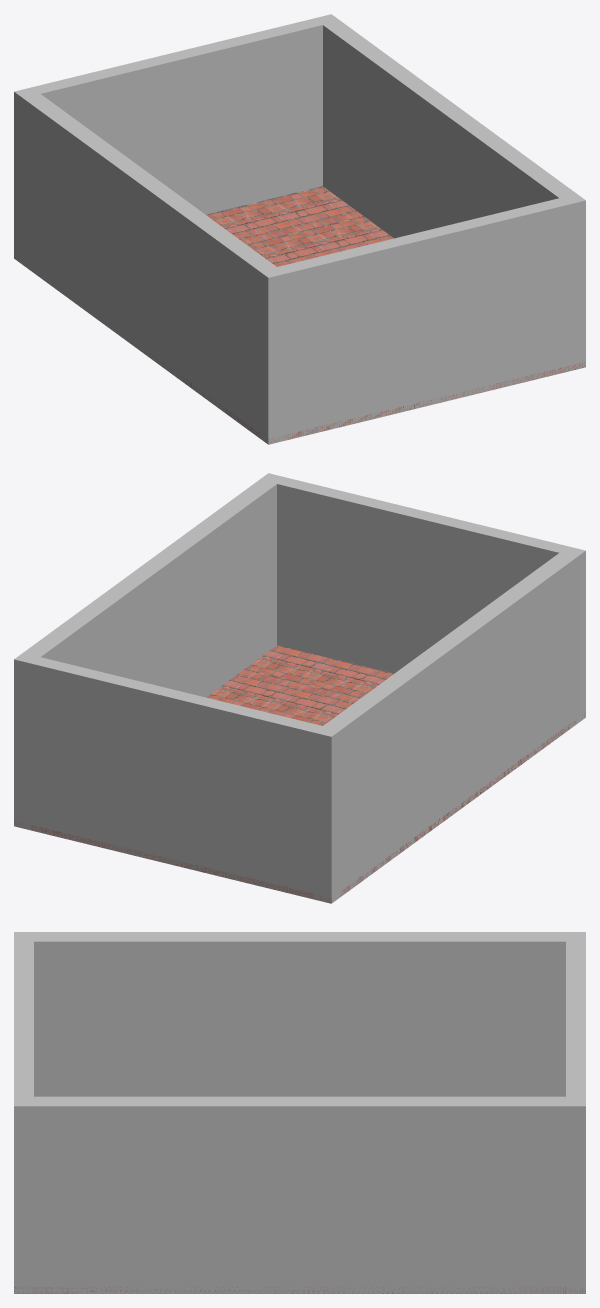
File: room.dae
The picture shows the model from 3 angles, top to bottom: view 1: azimuth 30°, elevation 25°; view 2: azimuth 150°, elevation 25°; view 3: azimuth 270°, elevation 25°; orthographic projection. The views are drawn at different scales.
Visible parts, largest first — view 1: Plane.001, Plane; view 2: Plane.001, Plane; view 3: Plane.001, Plane.
Part boxes in pixels (<box>): Plane.001: <box>14,14,585,444</box>; Plane: <box>149,186,585,444</box>; Plane.001: <box>14,473,585,903</box>; Plane: <box>14,645,585,902</box>; Plane.001: <box>14,932,585,1293</box>; Plane: <box>14,1287,585,1293</box>.
Size of the model in its own units: 19.91 by 27.63 by 10.
